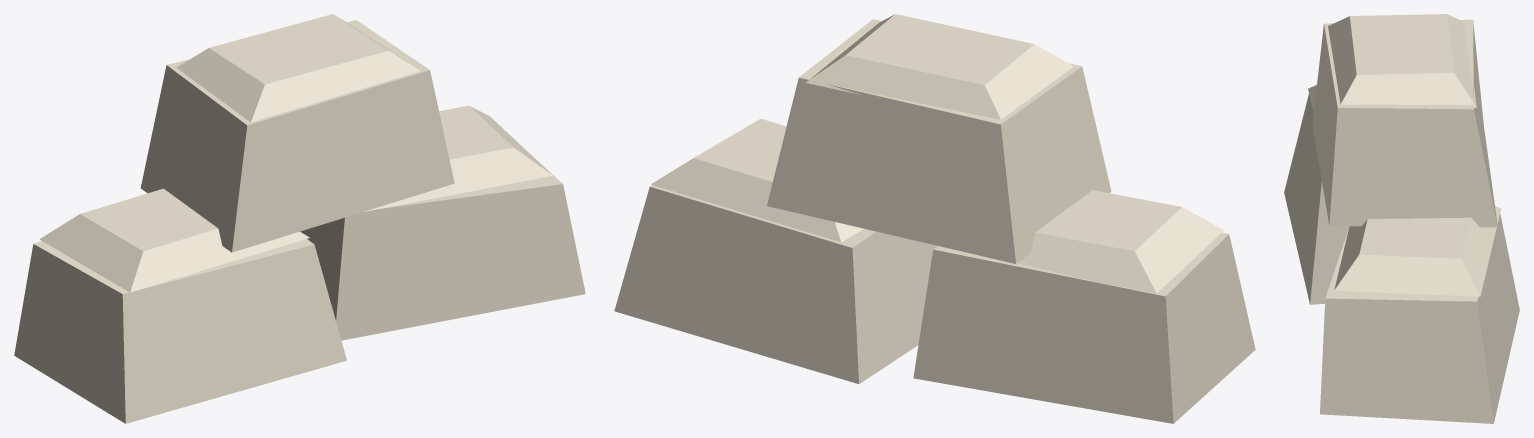
Rendered from SM_Flour_Sacks.glb.
3 renders of one model, left to right at view 1: azimuth 30°, elevation 25°; view 2: azimuth 150°, elevation 25°; view 3: azimuth 270°, elevation 25°, orthographic. The views are drawn at different scales.
Visible parts, largest first — view 1: SM_Flour_Sacks; view 2: SM_Flour_Sacks; view 3: SM_Flour_Sacks.
Part boxes in pixels (x1=…): SM_Flour_Sacks: x1=14, y1=14, x2=585, y2=423; SM_Flour_Sacks: x1=614, y1=14, x2=1255, y2=423; SM_Flour_Sacks: x1=1284, y1=14, x2=1519, y2=423.
Size of the model in its own units: 1.07 by 0.5482 by 0.4494.
